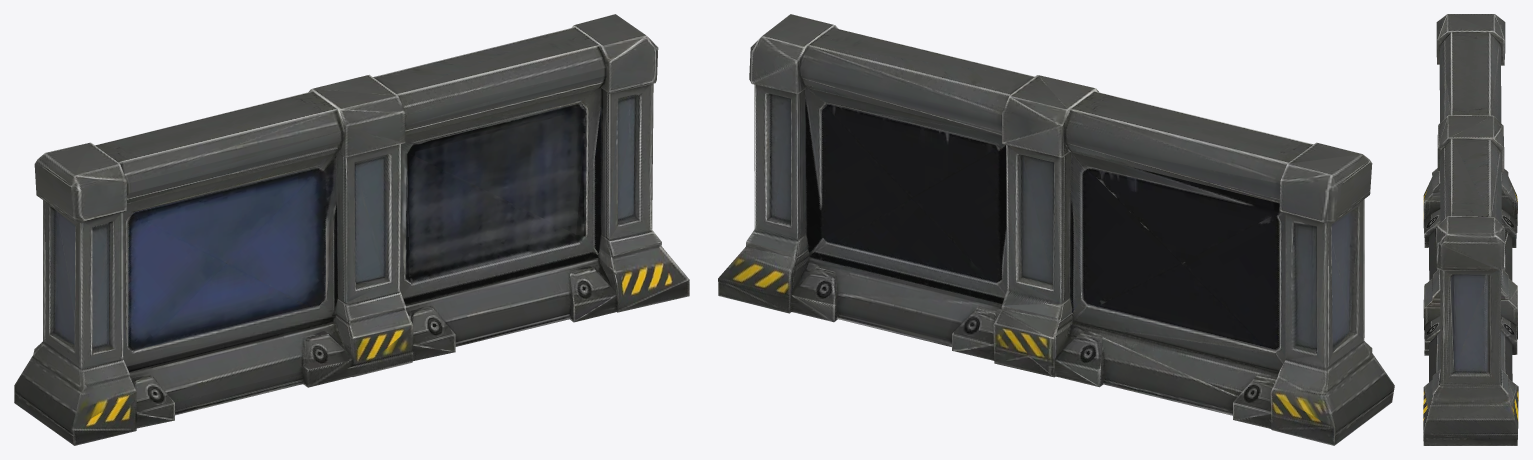
File: wall.glb
3 renders of one model, left to right at view 1: azimuth 30°, elevation 25°; view 2: azimuth 150°, elevation 25°; view 3: azimuth 270°, elevation 25°, orthographic. The views are drawn at different scales.
Visible parts, largest first — view 1: mesh_node; view 2: mesh_node; view 3: mesh_node.
Boxes of the visible parts, left/top/right/bottom form: mesh_node: left=14, top=14, right=689, bottom=445; mesh_node: left=718, top=14, right=1394, bottom=445; mesh_node: left=1423, top=14, right=1518, bottom=445.
Size of the model in its own units: 0.9941 by 0.3955 by 0.1689.
Materials: 1 (1 with a texture image).
